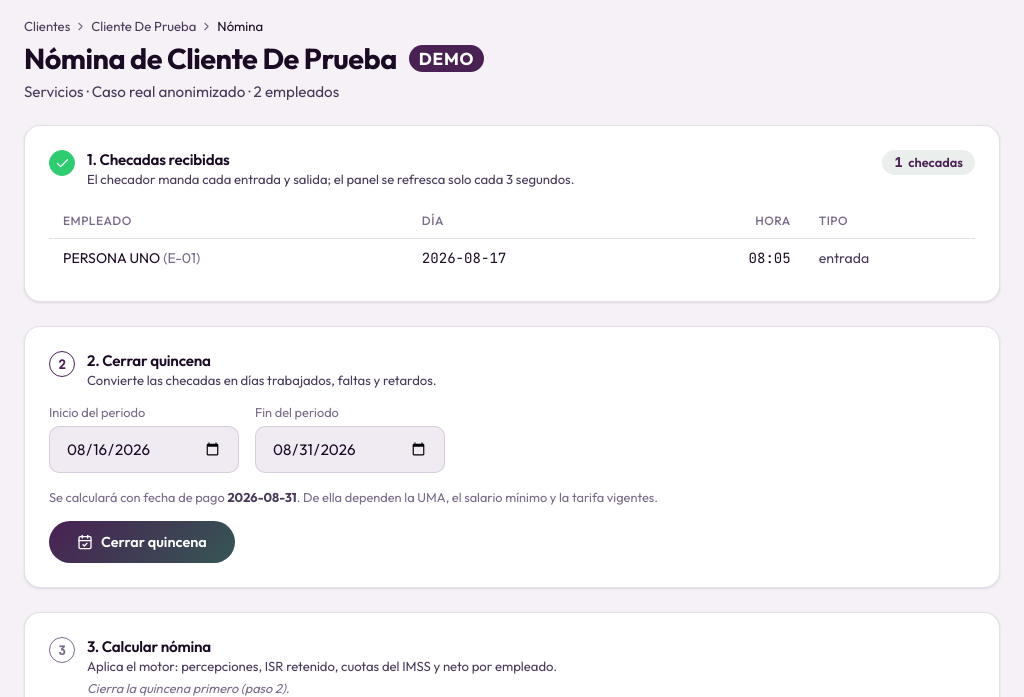
Test case: NominaClientePage › pinta recibos, cuotas por ramo y las advertencias del backend
Expected: the date field showing "2026-08-16" is shown, [49,426,239,473]
Click the button "Cerrar quincena" at (142, 542), box [49,521,235,563]
(page scrolled)
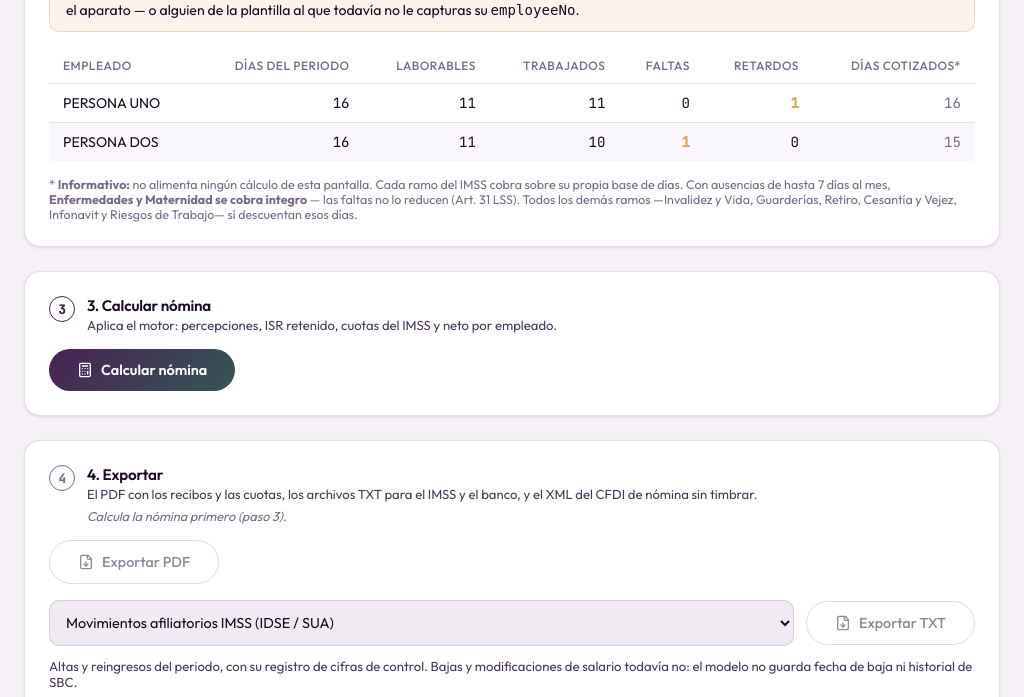
Result: the text "PERSONA DOS" is shown at [49,122,196,161]
Click the button "Calcular nómina" at (142, 370), box [49,349,235,391]
(page scrolled)
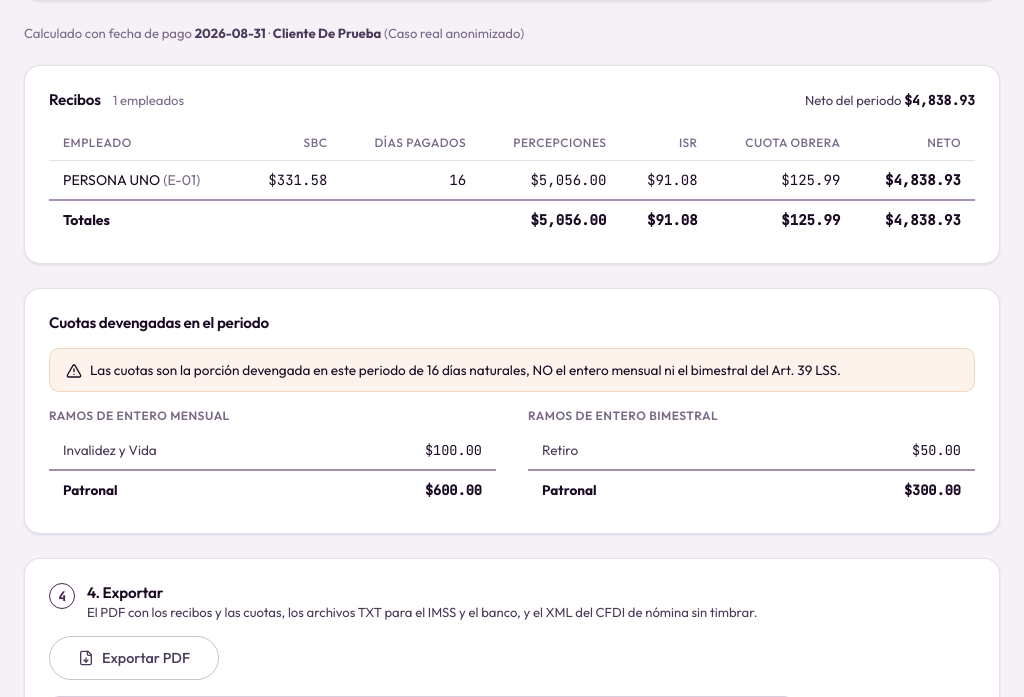
Result: the heading "Recibos" is shown at [49,90,101,109]
Result: the text "Invalidez y Vida" is shown at [49,431,312,470]
Result: the text "NO el entero mensual ni el bimestral" is shown at [90,361,841,379]
